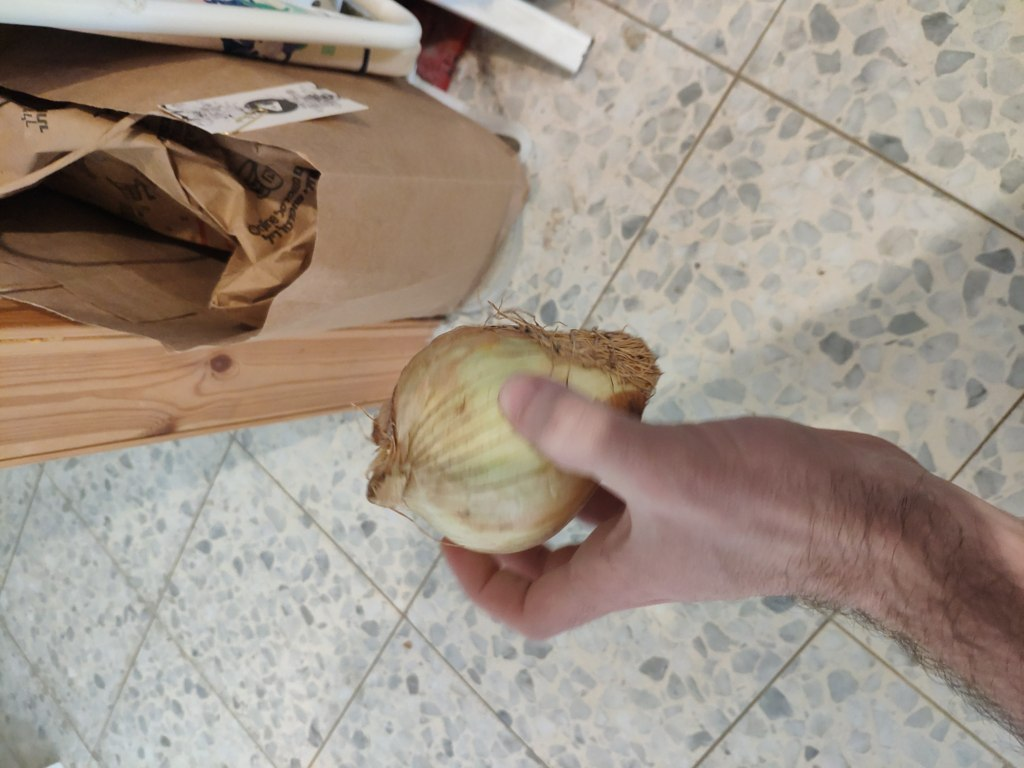Onion: (353, 299, 665, 576)
